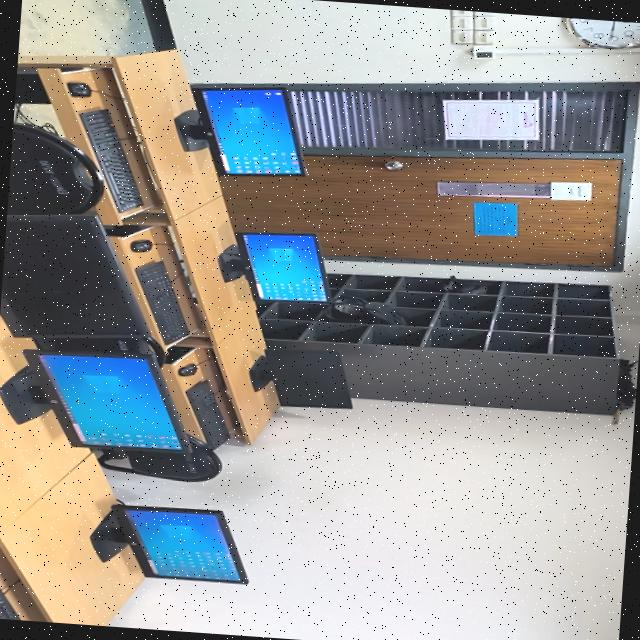Chair: (7, 121, 104, 214), (99, 434, 222, 481)
Cpu: (14, 72, 50, 103)
Keyboard: (81, 108, 143, 212), (135, 260, 189, 343), (186, 379, 230, 448), (0, 587, 22, 620)
Monitor: (0, 348, 190, 452), (0, 213, 150, 337), (90, 502, 248, 583), (175, 86, 306, 175), (218, 232, 329, 301), (249, 347, 351, 407)
Mouse: (67, 81, 91, 96), (178, 362, 197, 376), (131, 239, 152, 251)
